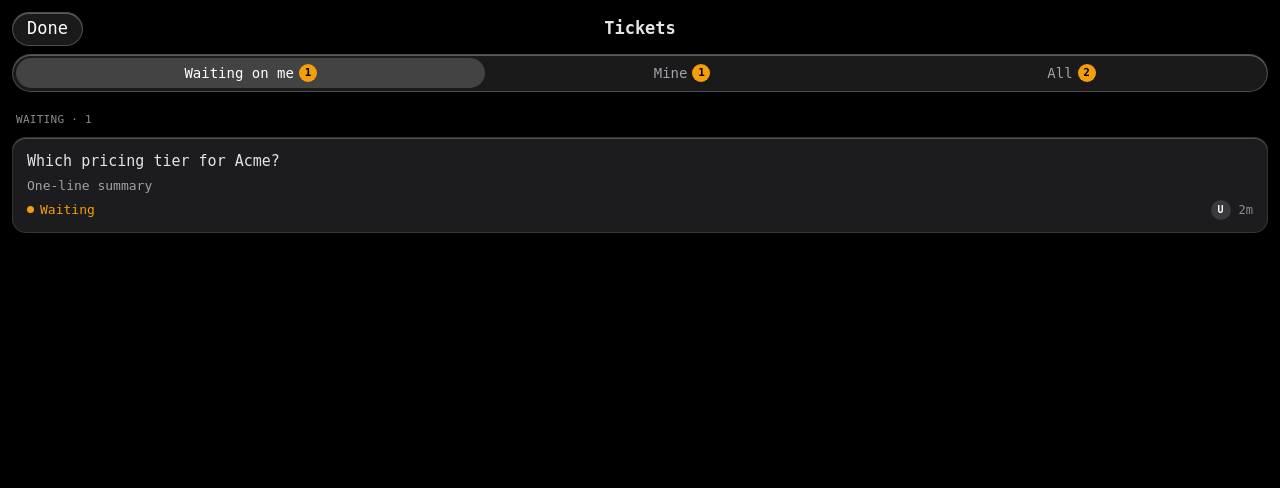
Tickets list › defaults to Waiting on me and starts live refresh
Check: the text "Which pricing tier for Acme?" is shown, box [27,152,280,170]
Check: the text "Someone else's" is not shown
Click the tab with test id "scope-mine" at [682, 73], box [485,58,879,88]
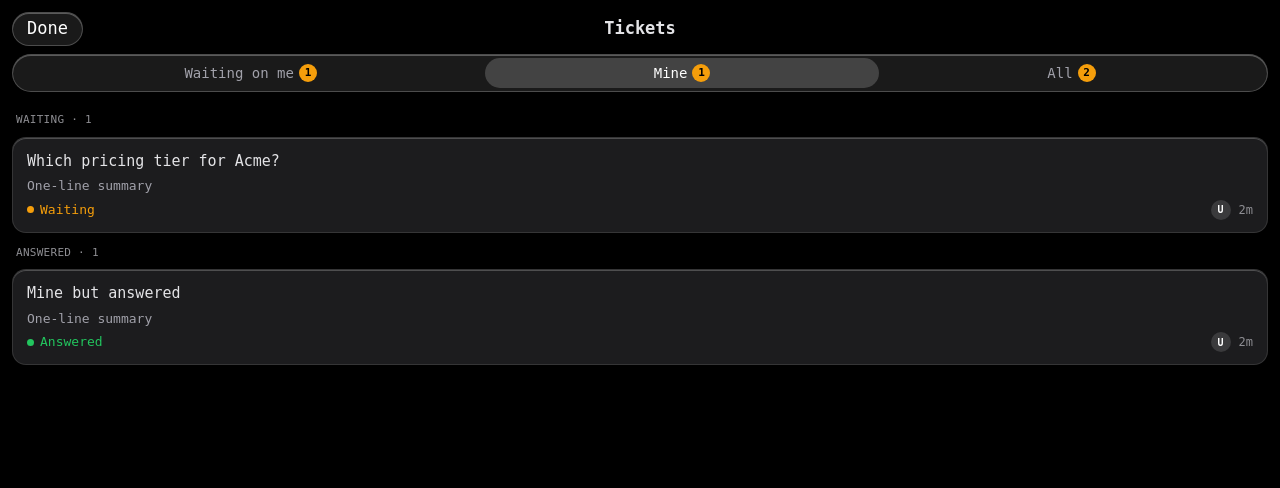
Check: the text "Mine but answered" is shown, box [27,284,180,302]
Click the tab with test id "scope-all" at [1071, 73], box [879,58,1264,88]
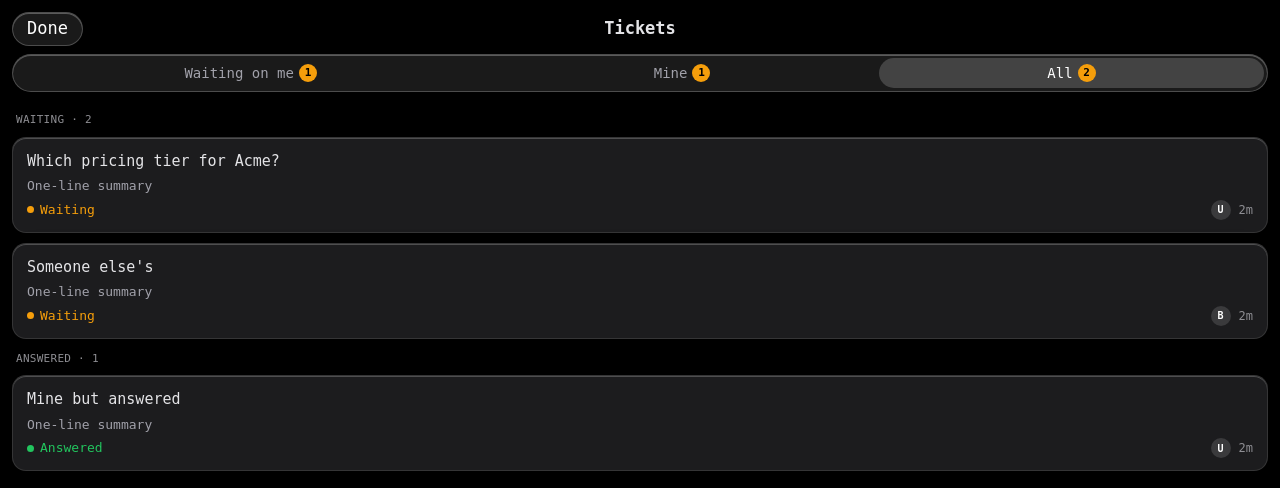
Check: the text "Someone else's" is shown, box [27,258,153,276]
